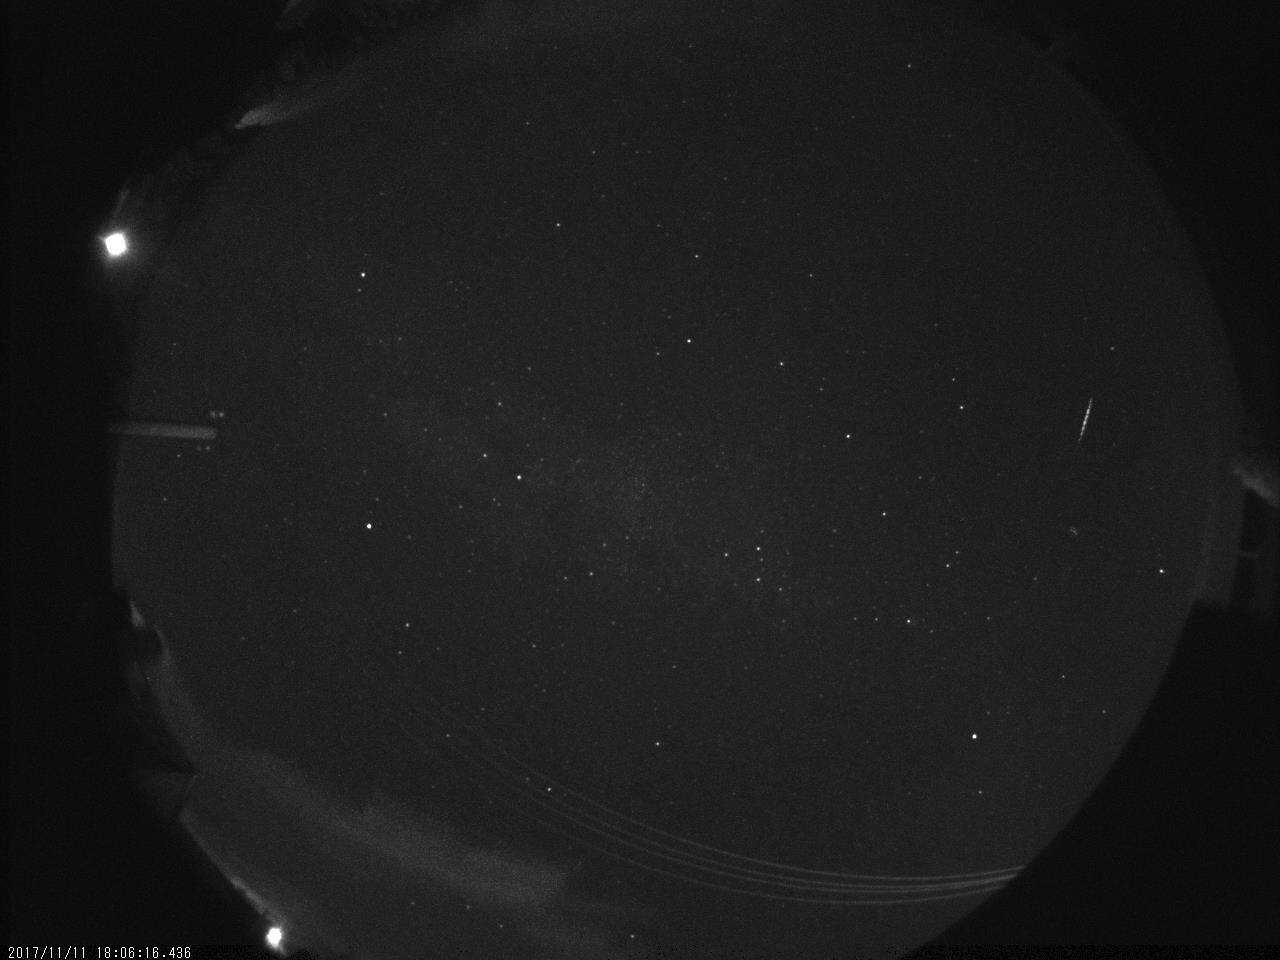meteor: (1045, 376, 1125, 449)
